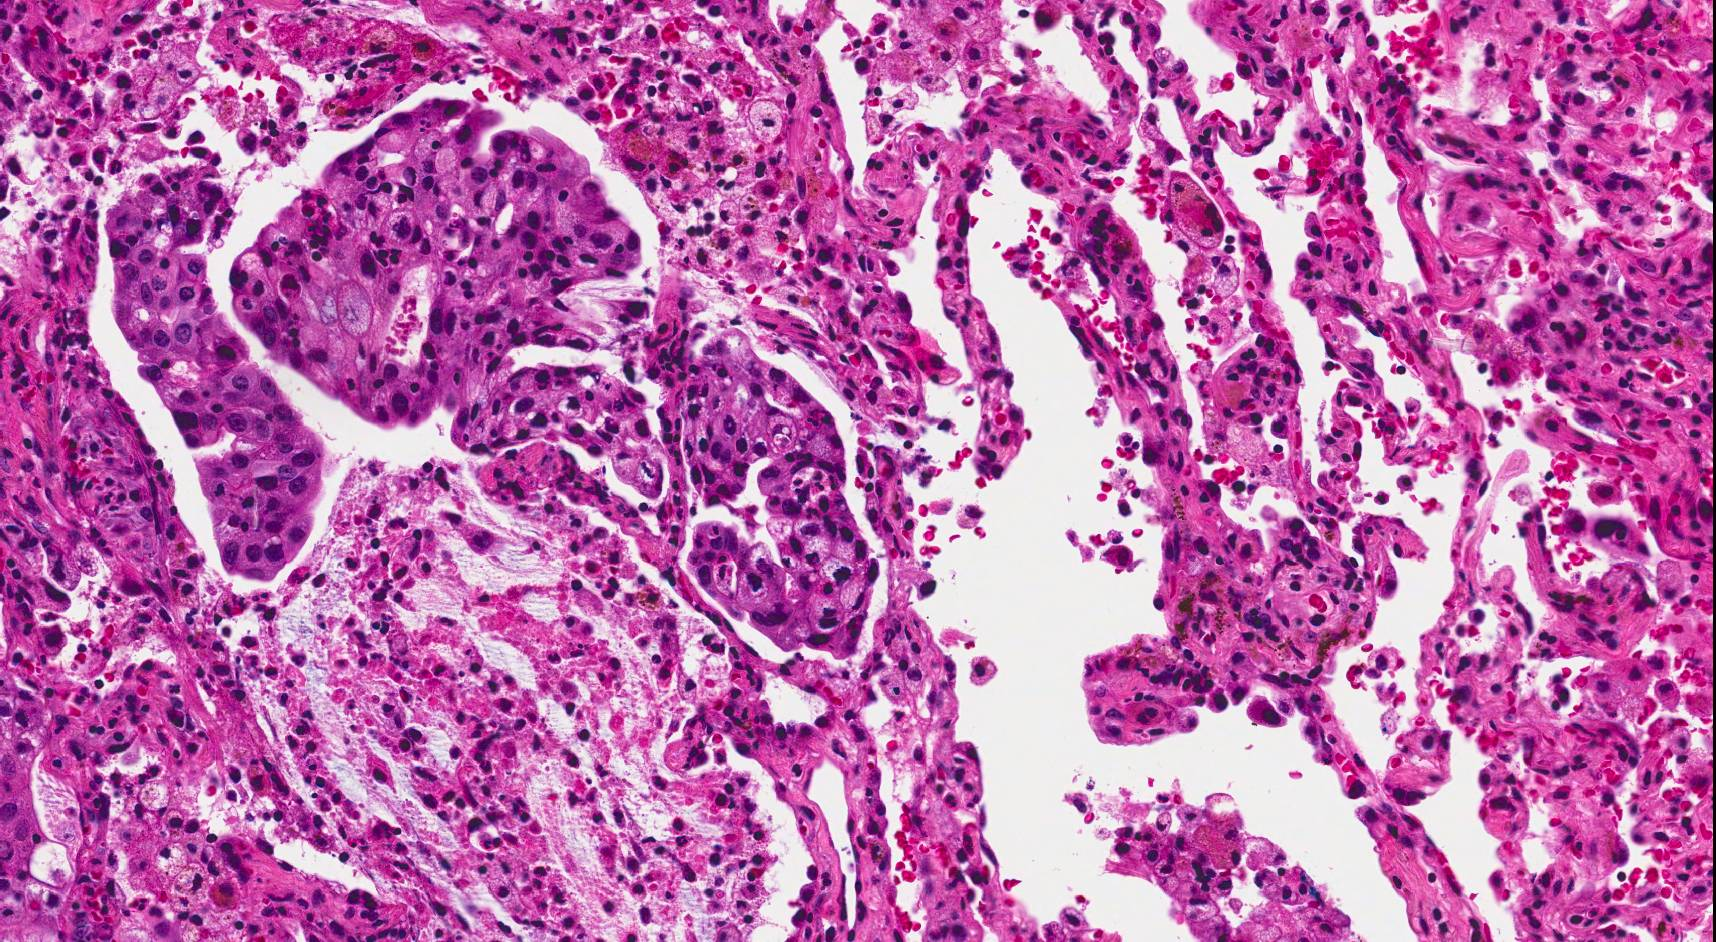stas: (227, 98, 666, 496), (105, 166, 323, 582), (679, 327, 878, 661)
